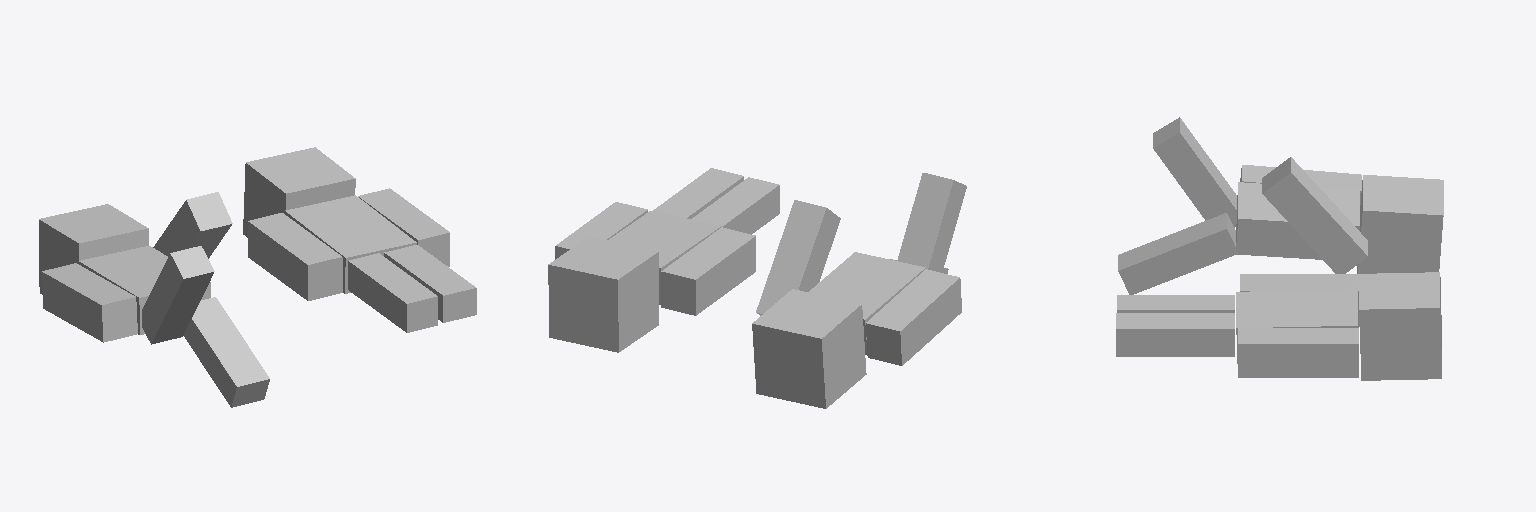
File: steve_000024.obj
The picture shows the model from 3 angles: view 1: azimuth 30°, elevation 25°; view 2: azimuth 150°, elevation 25°; view 3: azimuth 270°, elevation 25°; orthographic projection.
Parts seen in each view (by area): view 1: Cube.001_Cube.002, Cube_Cube.001; view 2: Cube_Cube.001, Cube.001_Cube.002; view 3: Cube.001_Cube.002, Cube_Cube.001.
Part boxes in pixels (x1,y1,x2,y2): Cube.001_Cube.002: (243,147,476,332); Cube_Cube.001: (39,192,269,407); Cube_Cube.001: (752,173,966,408); Cube.001_Cube.002: (548,168,779,352); Cube.001_Cube.002: (1116,272,1441,380); Cube_Cube.001: (1118,117,1443,294).
Size of the model in its own units: 6.55 by 2.62 by 5.36.